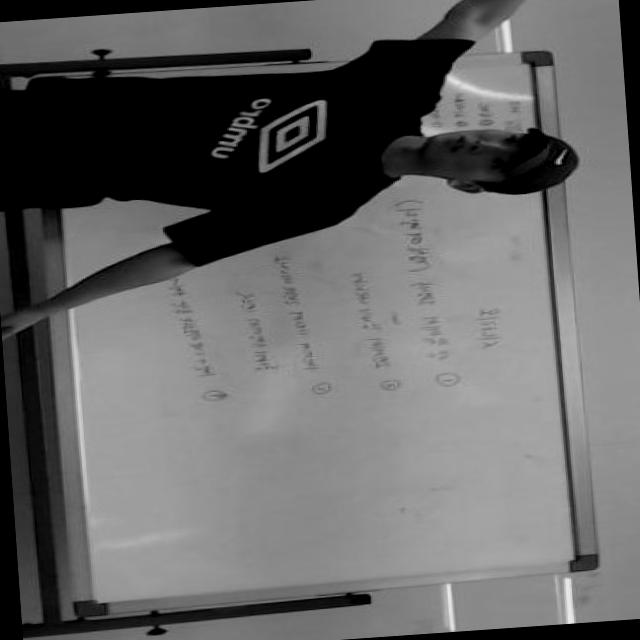Instructor: (38, 57, 591, 239)
White-board: (39, 54, 590, 612)
